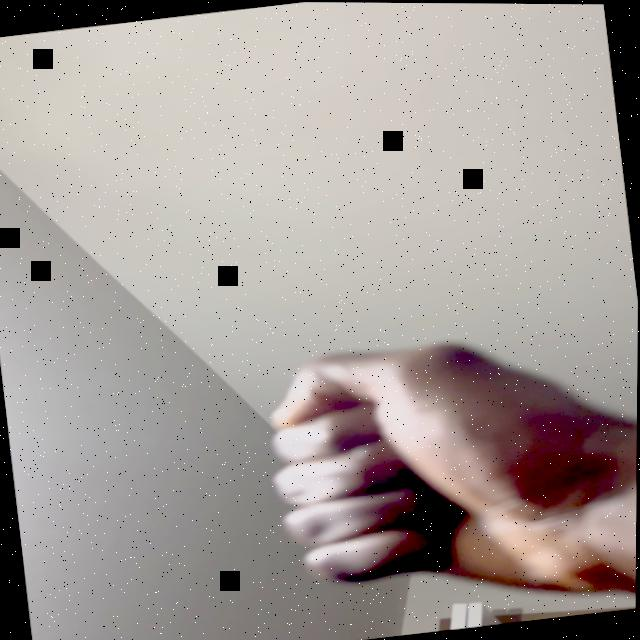Rock: (257, 312, 638, 633)
